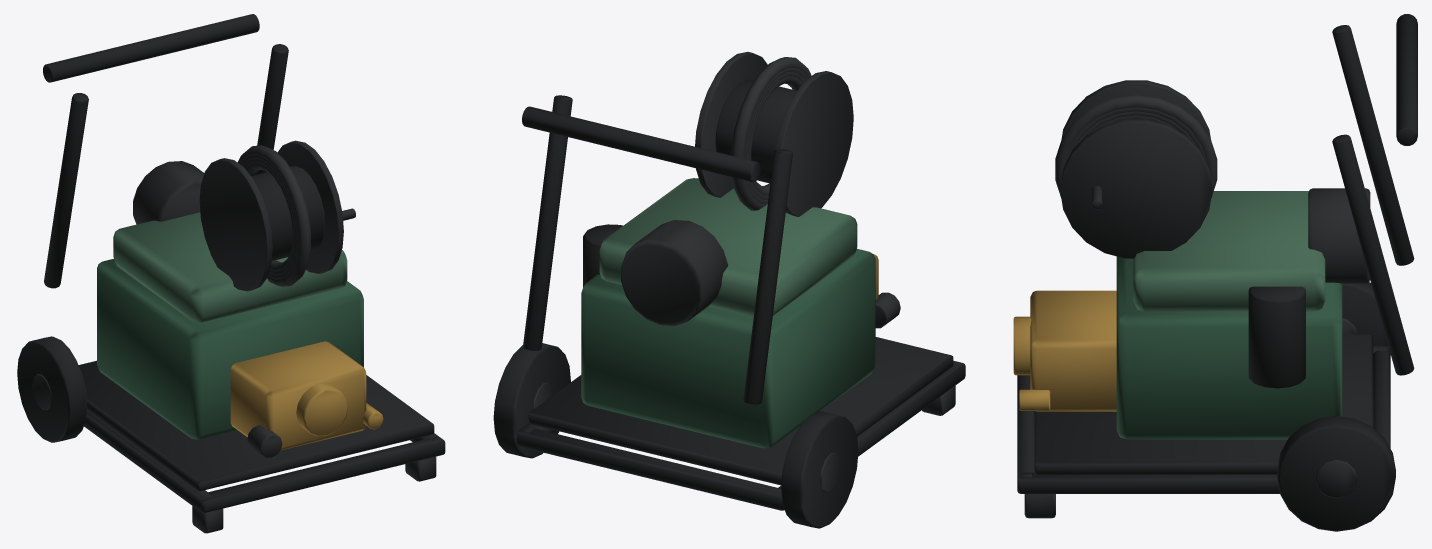
Rendered from asset_078_pressure_washer.glb.
3 renders of one model, left to right at view 1: azimuth 30°, elevation 25°; view 2: azimuth 150°, elevation 25°; view 3: azimuth 270°, elevation 25°, orthographic. The views are drawn at different scales.
Parts seen in each view (by area): view 1: MESH_WasherEngineAssembly, MESH_WasherChassis, MESH_WasherHoseReelAssembly, MESH_WasherWheelL, MESH_WasherHubL; view 2: MESH_WasherEngineAssembly, MESH_WasherChassis, MESH_WasherHoseReelAssembly, MESH_WasherWheelL, MESH_WasherWheelR, MESH_WasherHubL; view 3: MESH_WasherEngineAssembly, MESH_WasherChassis, MESH_WasherHoseReelAssembly, MESH_WasherWheelR, MESH_WasherWheelL, MESH_WasherHubR.
Part boxes in pixels (x1,y1,x2,y2): MESH_WasherEngineAssembly: (97, 161, 383, 457); MESH_WasherChassis: (43, 14, 445, 533); MESH_WasherHoseReelAssembly: (199, 140, 355, 291); MESH_WasherWheelL: (17, 336, 87, 442); MESH_WasherHubL: (32, 374, 51, 410); MESH_WasherEngineAssembly: (581, 178, 900, 448); MESH_WasherChassis: (516, 95, 965, 510); MESH_WasherHoseReelAssembly: (695, 52, 853, 216); MESH_WasherWheelL: (781, 411, 858, 528); MESH_WasherWheelR: (493, 343, 570, 458); MESH_WasherHubL: (820, 452, 841, 492); MESH_WasherEngineAssembly: (1013, 188, 1370, 439); MESH_WasherChassis: (1017, 14, 1417, 518); MESH_WasherHoseReelAssembly: (1055, 80, 1217, 258); MESH_WasherWheelR: (1277, 416, 1395, 531); MESH_WasherWheelL: (1342, 282, 1388, 346); MESH_WasherHubR: (1315, 460, 1357, 498).
Bounding box in the file's own units: 0.65 × 0.7565 × 0.719.
